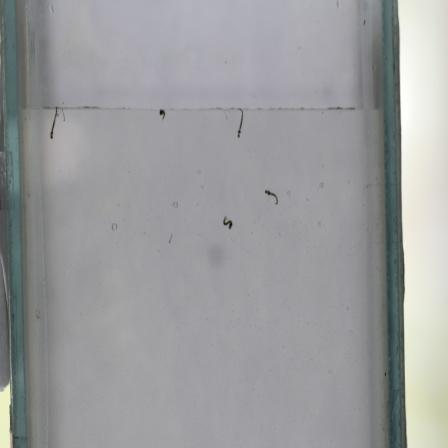Jentik-Nyamuk: (46, 103, 61, 142), (232, 105, 248, 141), (262, 185, 282, 210), (220, 212, 236, 233), (154, 105, 170, 123)
